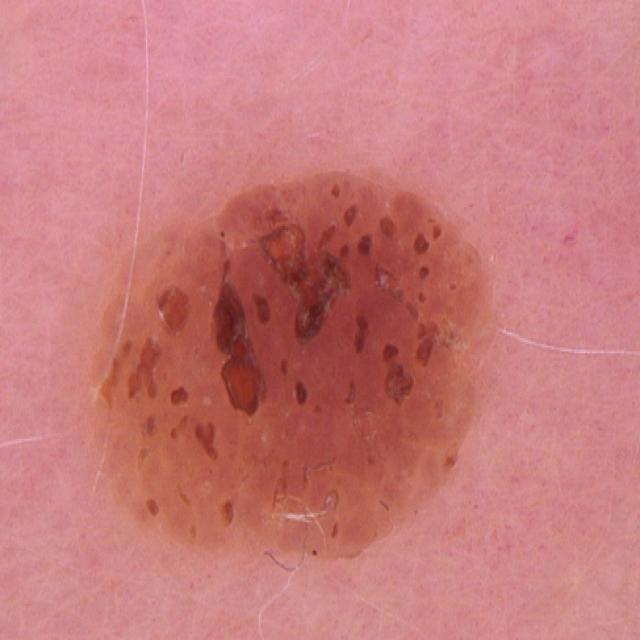Keratosis: (73, 135, 515, 619)
